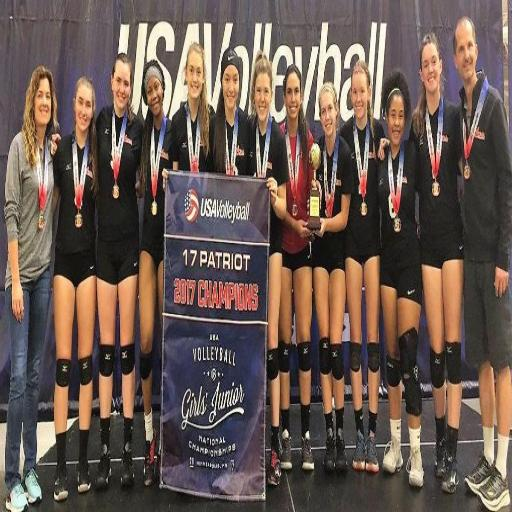person: (453, 17, 511, 509), (410, 33, 463, 492), (4, 66, 57, 510), (95, 53, 142, 488), (378, 71, 423, 487), (53, 77, 97, 500), (341, 61, 383, 472), (250, 51, 288, 486), (312, 83, 353, 471), (279, 65, 314, 470), (139, 60, 171, 486), (172, 42, 214, 172), (212, 49, 251, 175)
